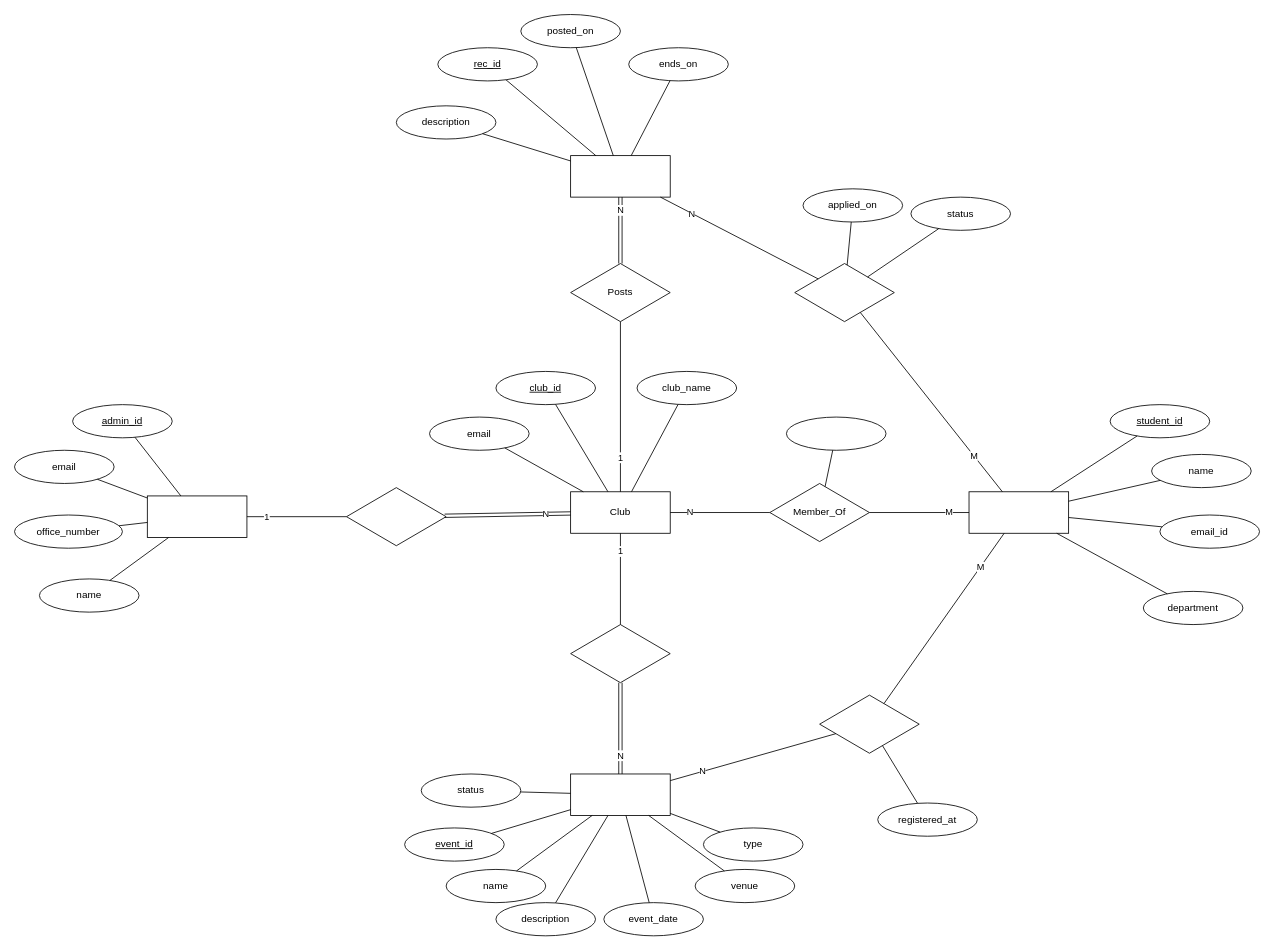
The diagram is 1274 pixels wide and 950 high, and some of its shapes have lost their labels. Here are the shapes that lost their labels. From the top down, the centre of each, then its label:
the point at 620,176: Recruitment
the point at 844,292: Applies
the point at 836,433: role
the point at 196,516: Admin
the point at 396,516: Manages
the point at 1018,512: Student
the point at 620,653: Conducts
the point at 869,723: Registers
the point at 620,794: Event
